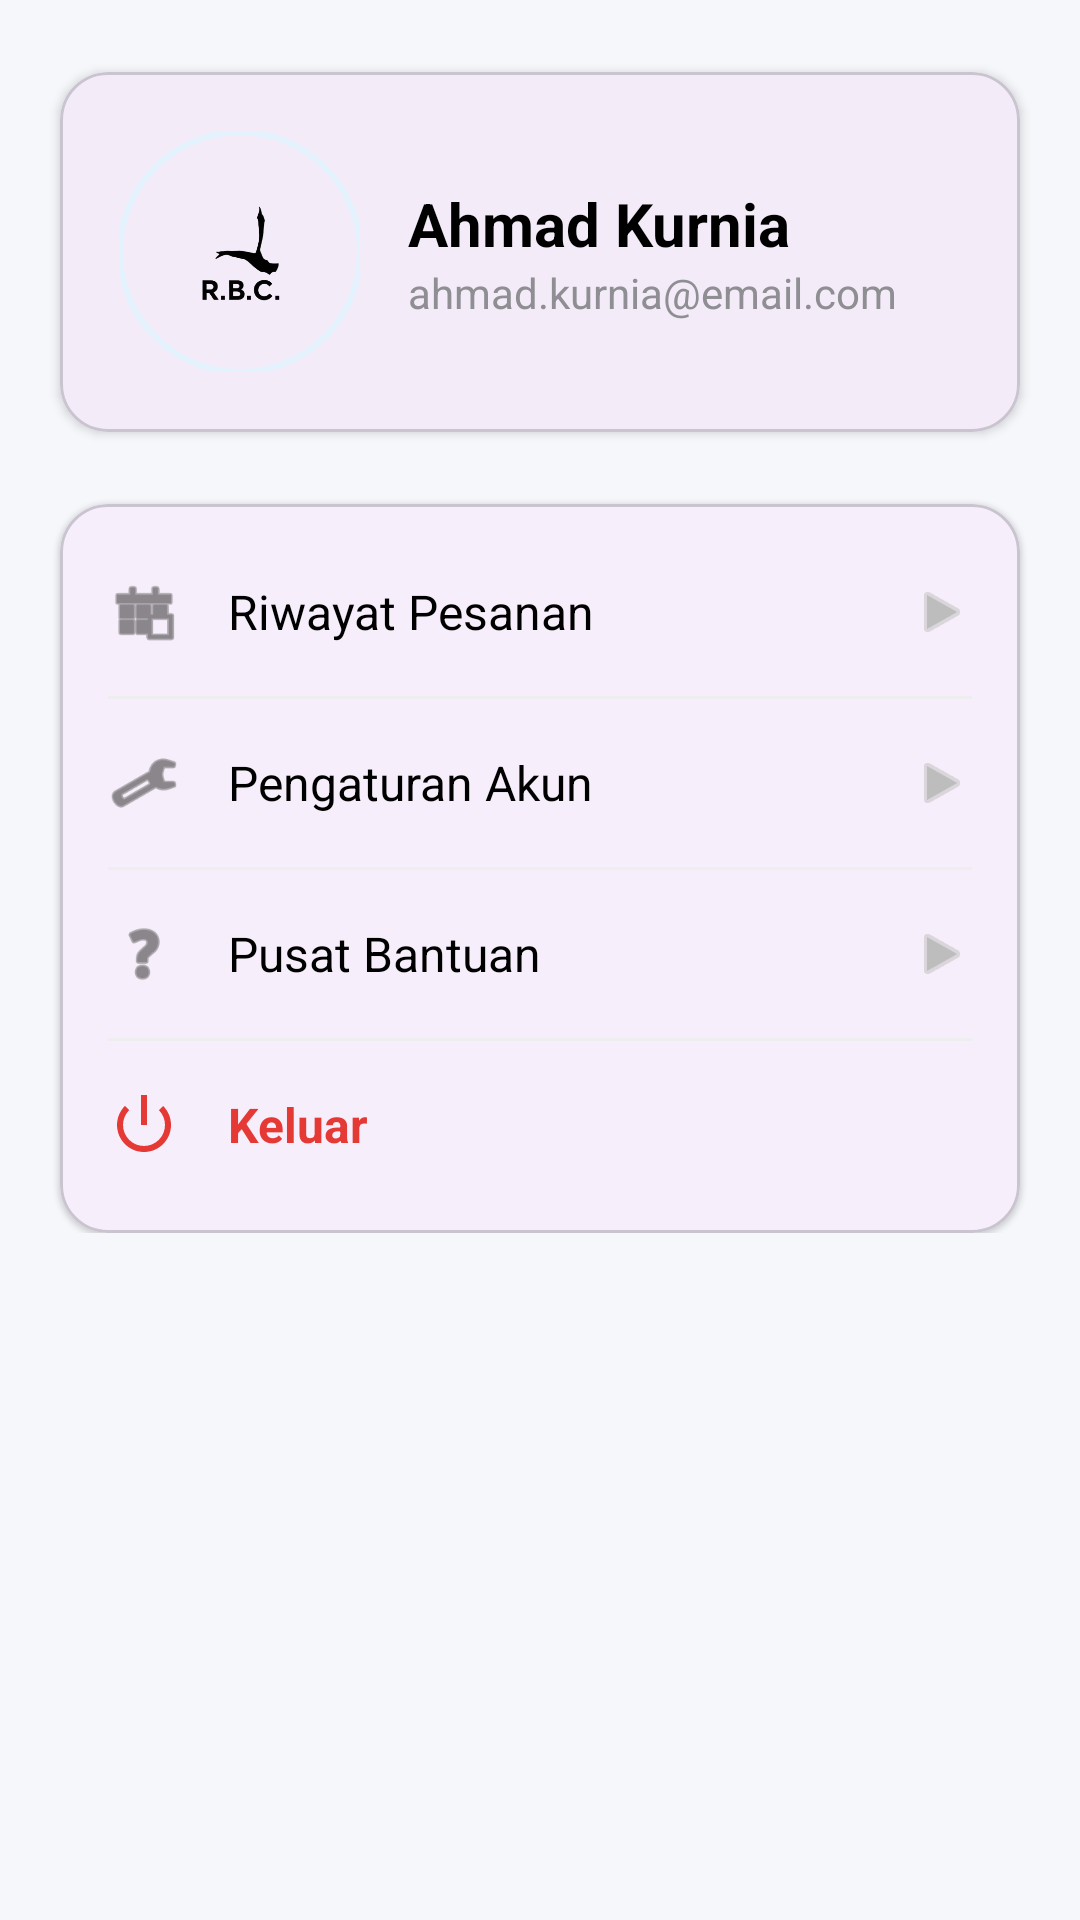

Icons on this 1080 x 1920 Android screen, each with the point to tap as (x,y):
help: (144,954)
lock power off: (144,1123)
manage: (144,783)
play: (942,612), (942,783), (942,954)
today: (144,613)
